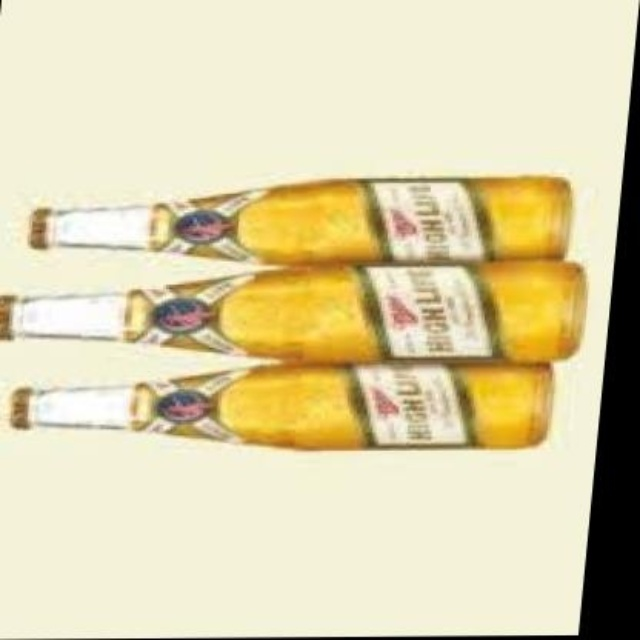trash: (0, 260, 585, 363), (29, 177, 571, 263), (9, 363, 551, 448)
